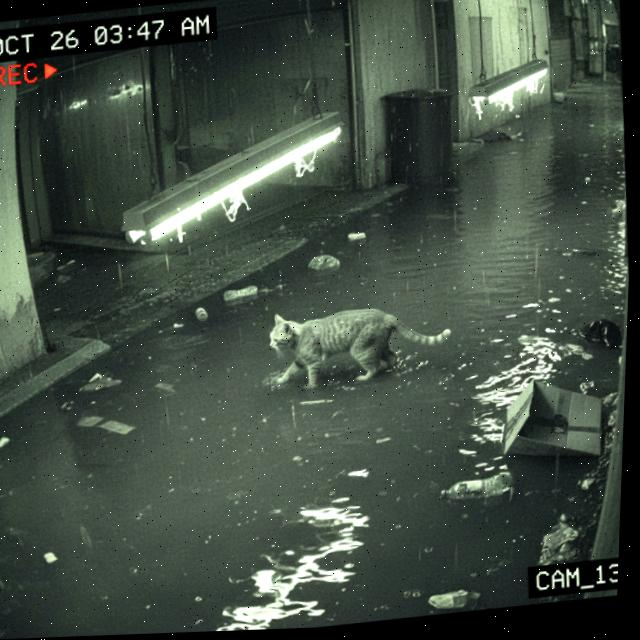cat: (255, 292, 464, 403)
